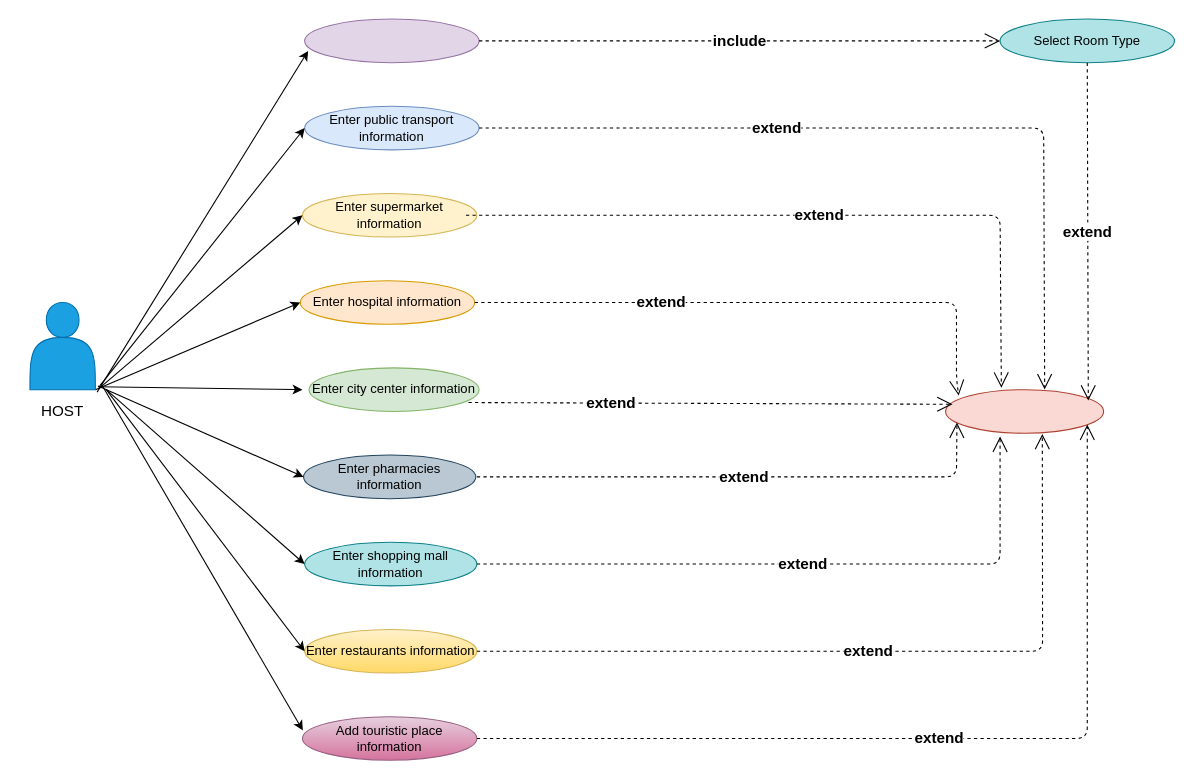
Some shapes in this 1194 by 779 pixel diagram are drawn without their labels. The shapes that lost their labels are listed below. From the top down, each one's box as (x1, y1, x2, y2) in pixels, then its label:
(304, 18, 479, 63): Select House Type
(944, 389, 1104, 433): See the price
